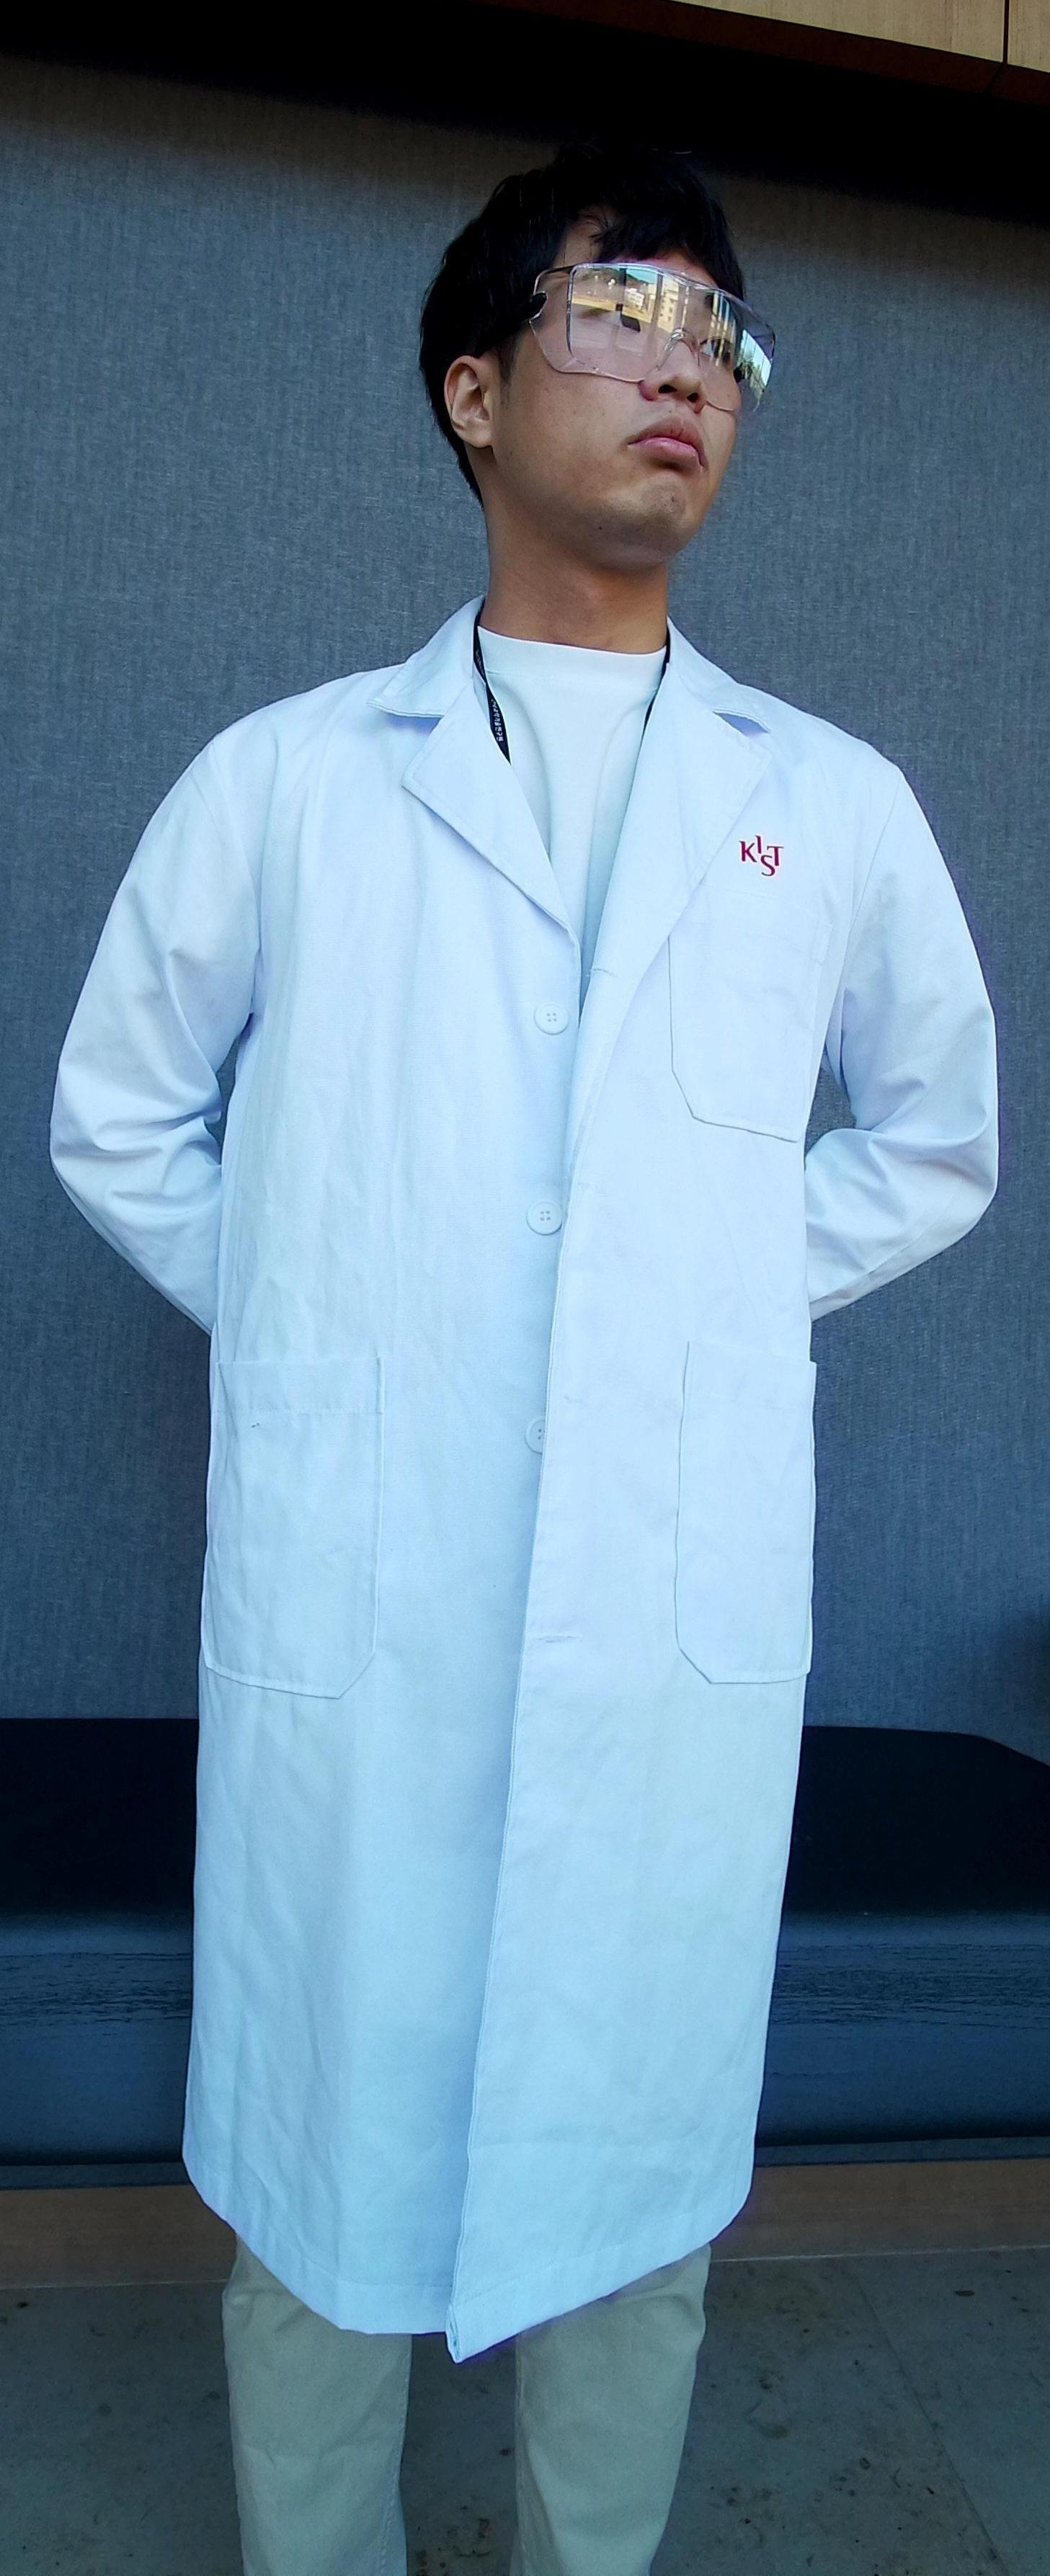lab_coat: (59, 657, 1025, 2288)
